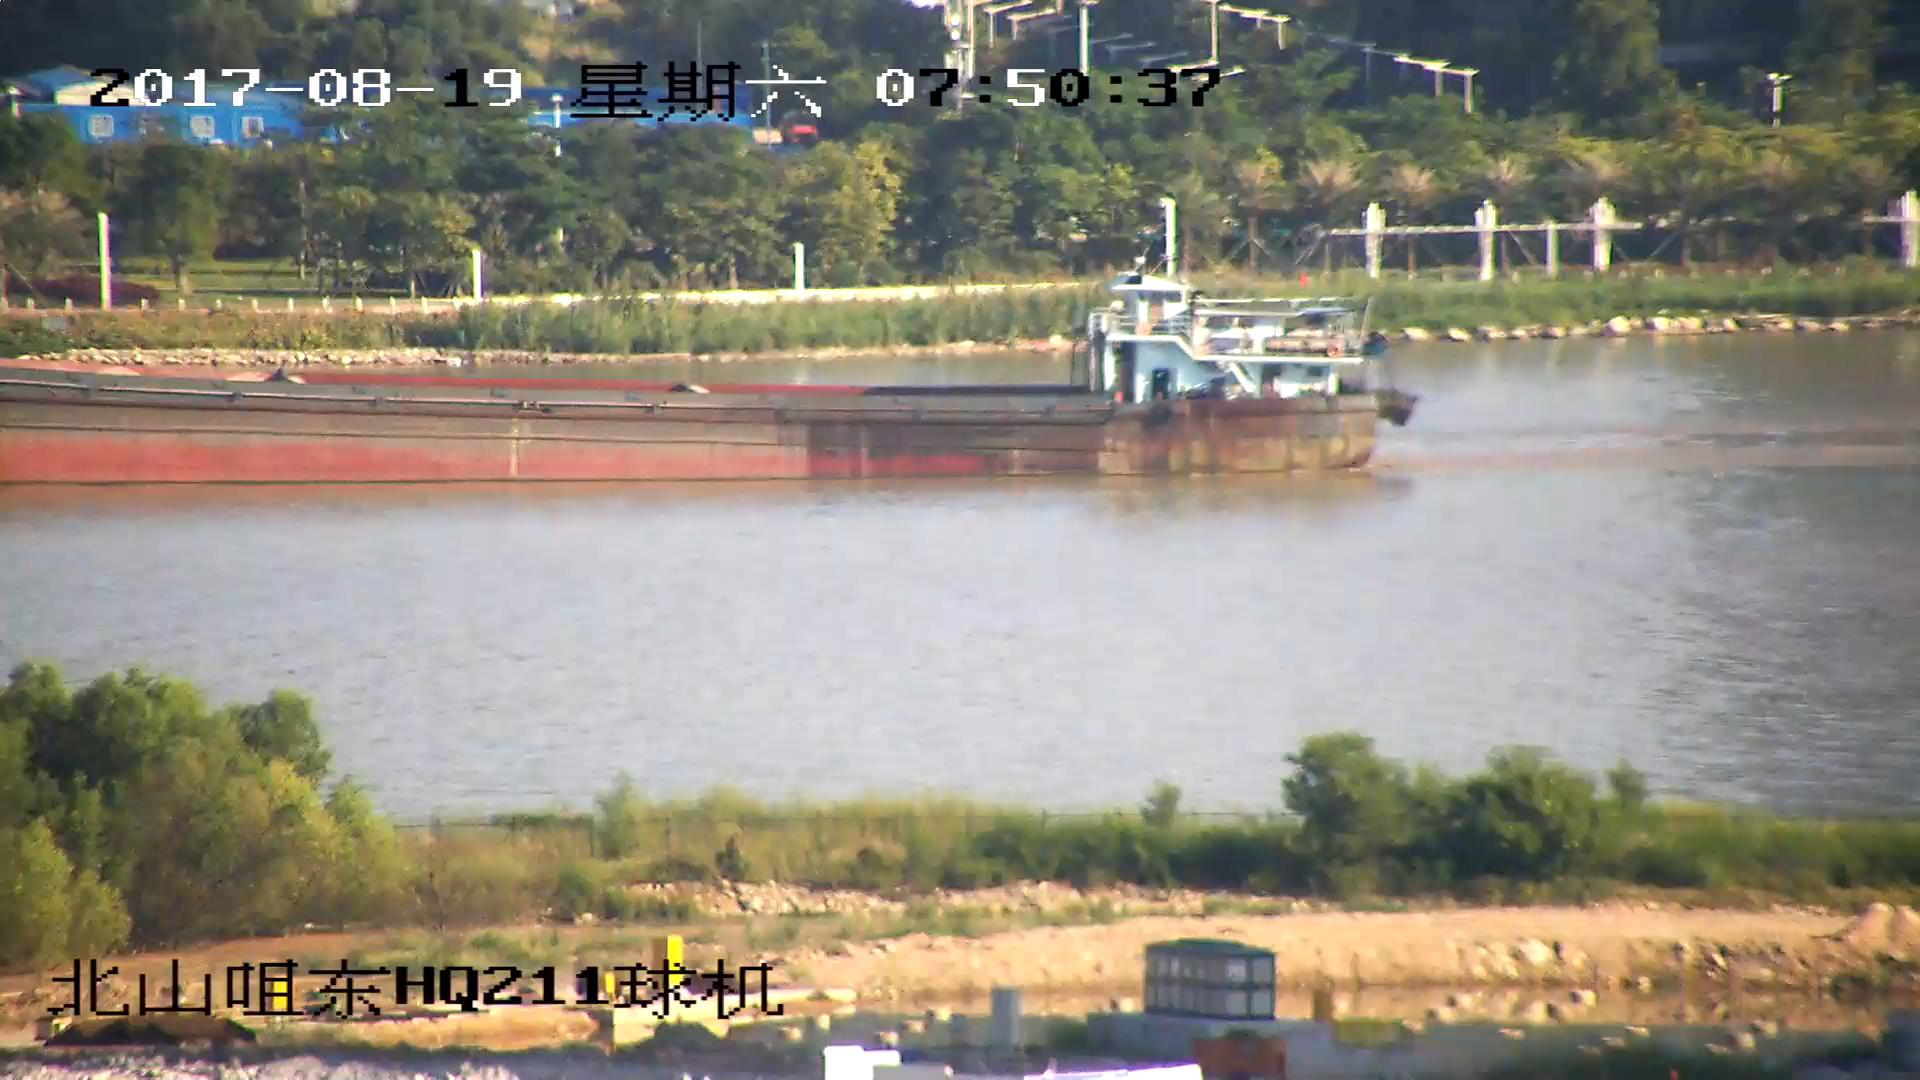bulk cargo carrier: (1, 250, 1416, 484)
